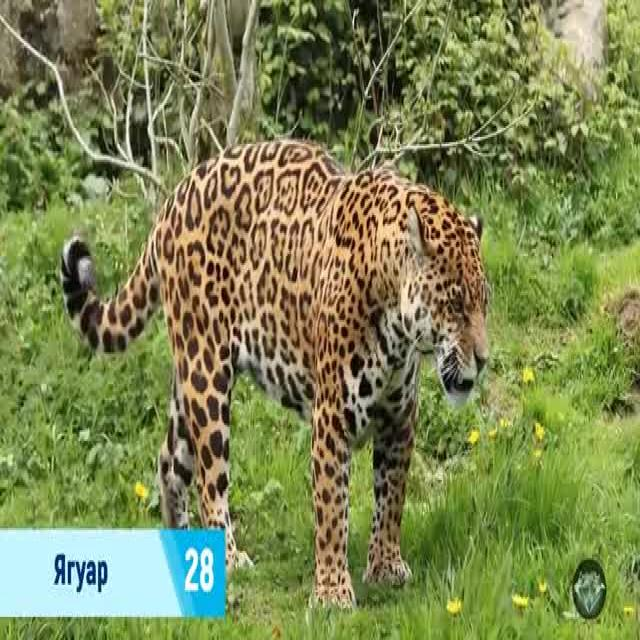Jaguar: (55, 137, 495, 620)
